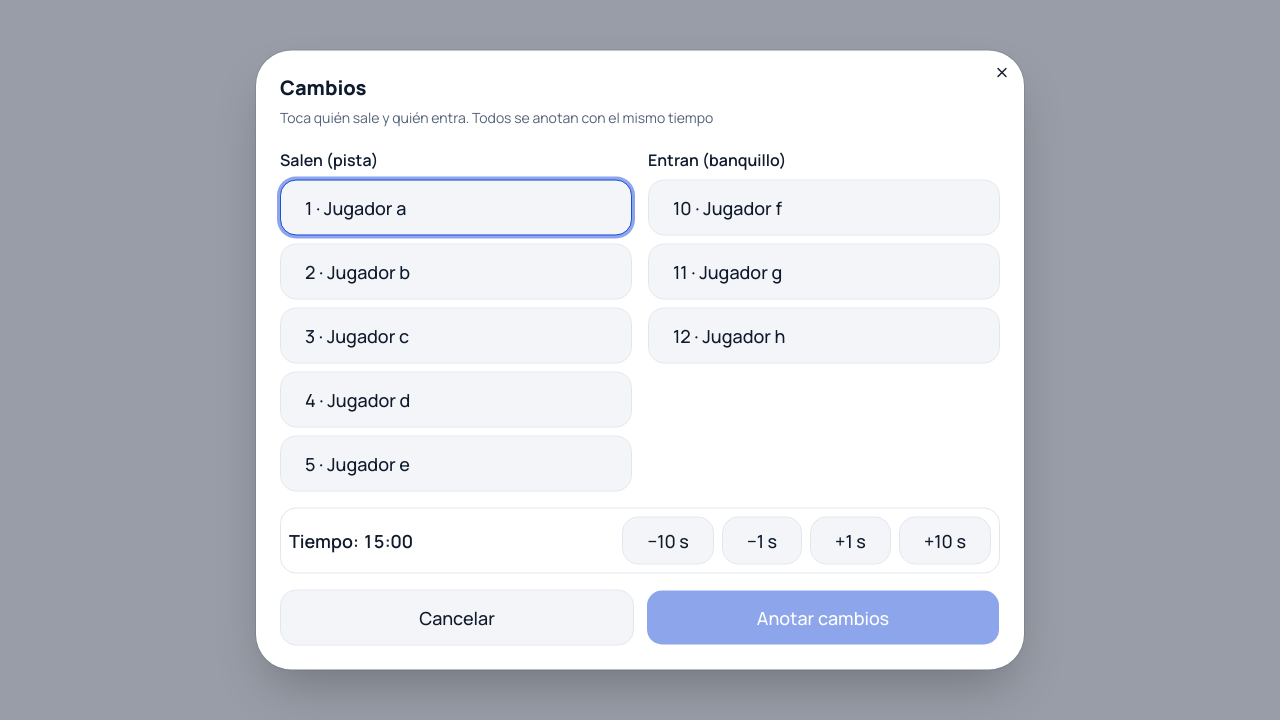
MultiSubstitutionDialog › tocar un par lo quita
The width and height of the screenshot is (1280, 720).
Click the button "1 · Jugador a" at (365, 208), box [280,180,632,236]
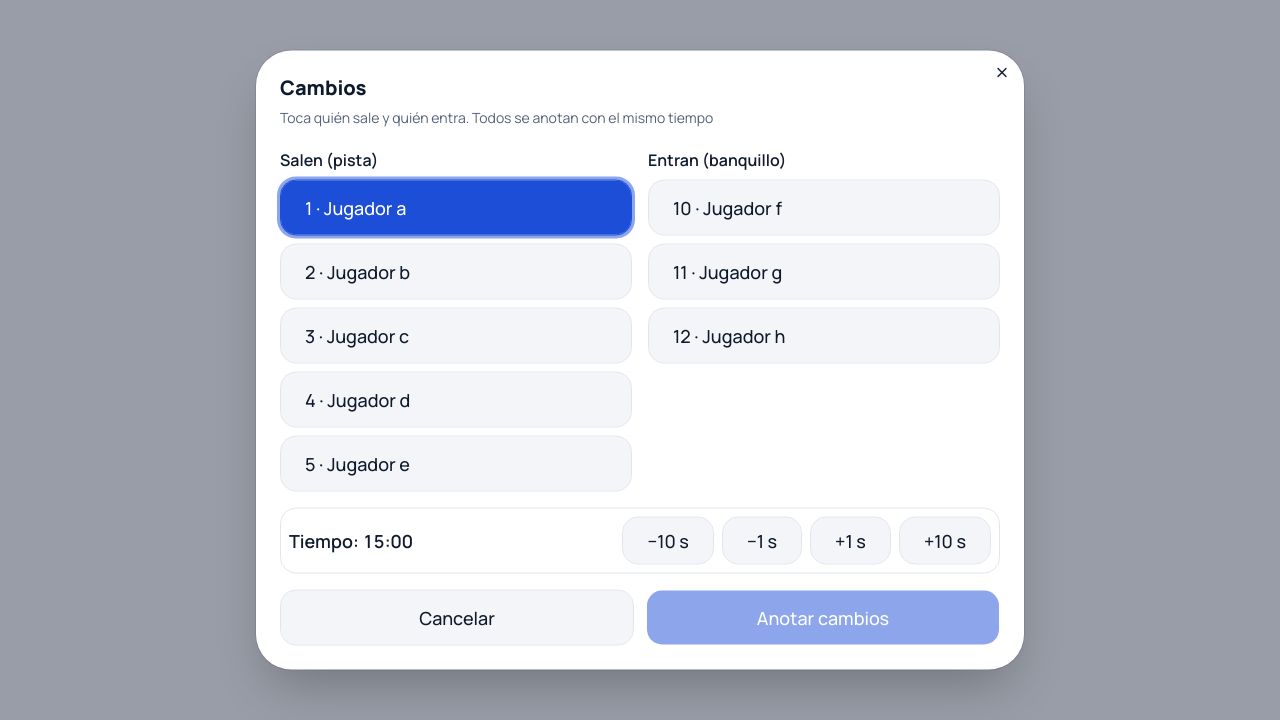
Click the button "10 · Jugador f" at (743, 208), box [648,180,1000,236]
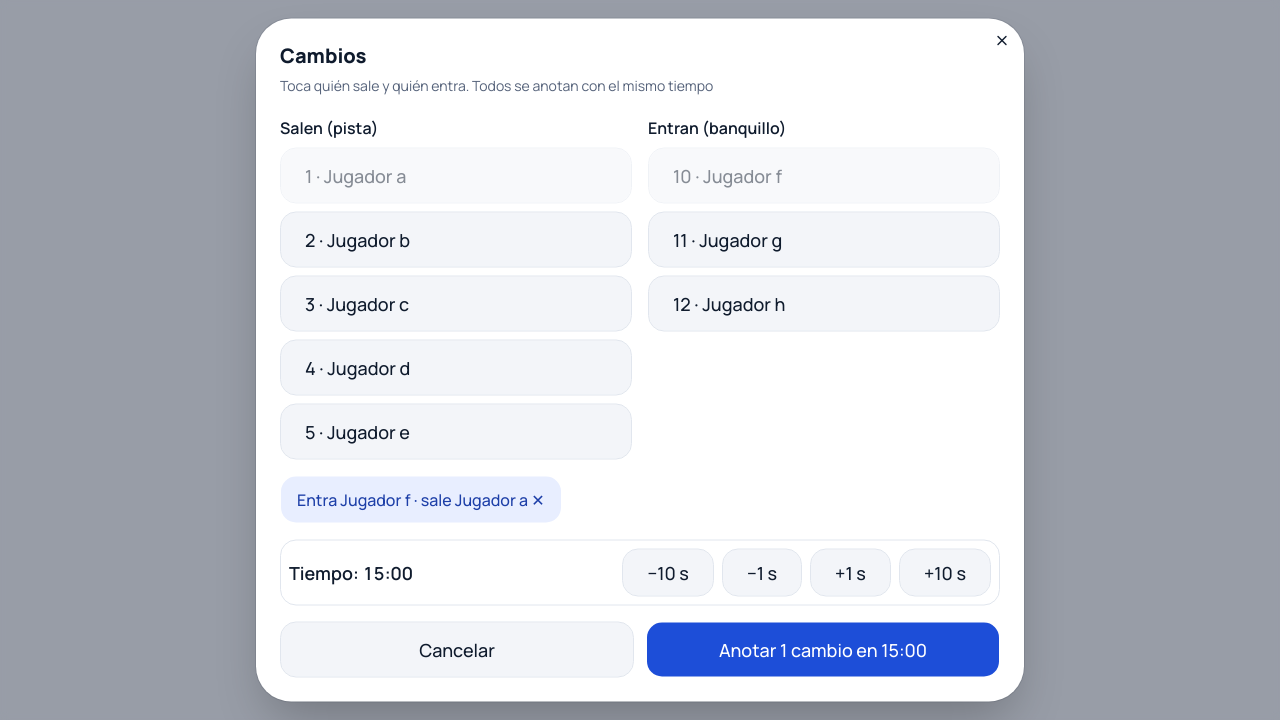
Click the button with aria-label "Quitar: entra Jugador f" at (421, 500), box [280,476,562,524]
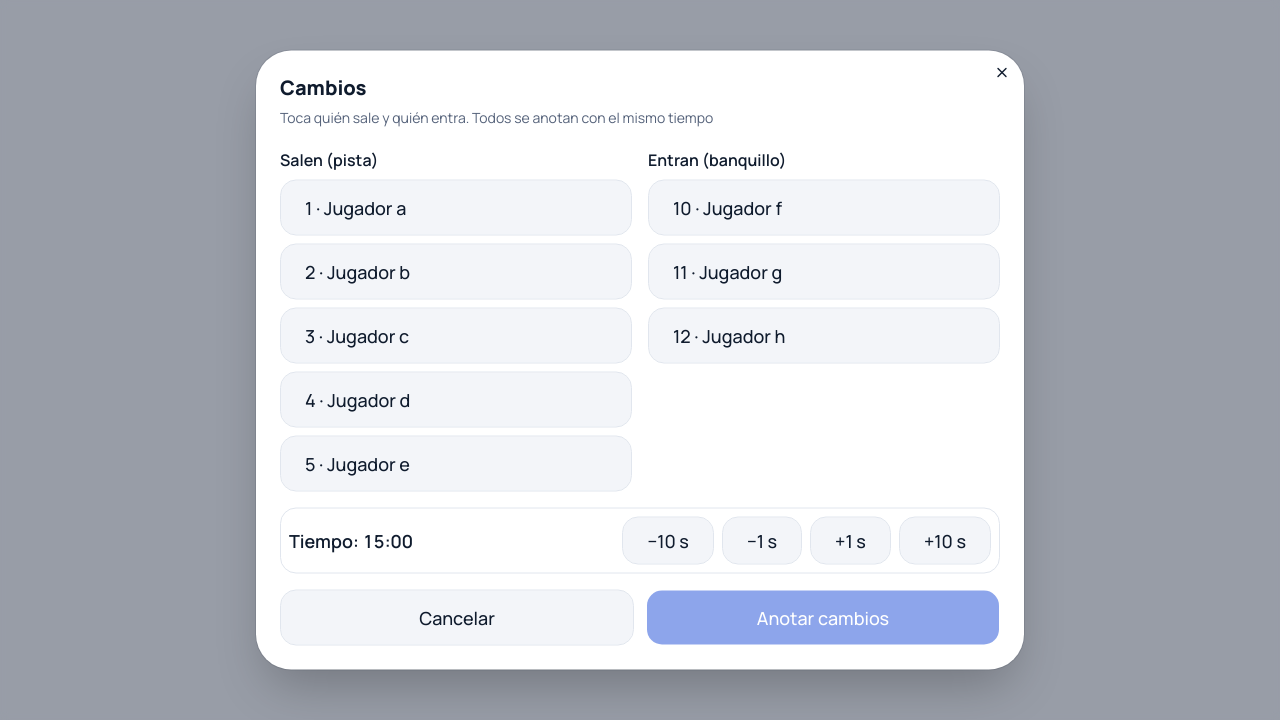
Result: the button "Entra Jugador f · sale Jugador a" is gone
Result: the button "Anotar cambios" is disabled at [646,590,1000,646]
